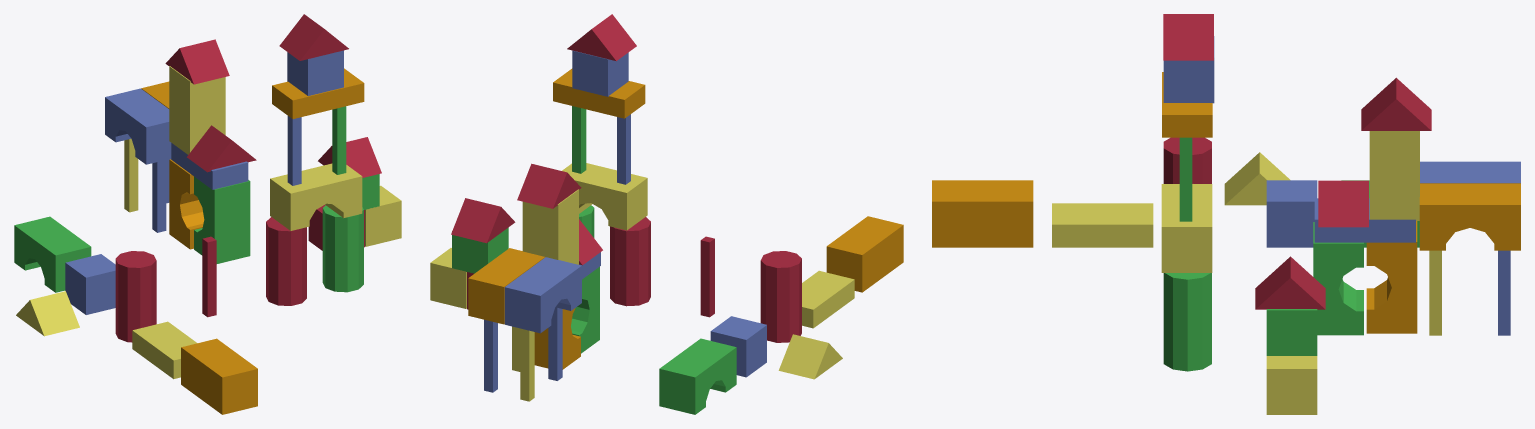
The model's file is Cubes.fbx.
The picture shows the model from 3 angles, left to right: view 1: azimuth 30°, elevation 25°; view 2: azimuth 150°, elevation 25°; view 3: azimuth 270°, elevation 25°; orthographic projection. The views are drawn at different scales.
Visible parts, largest first — view 1: House_with_arch, Tower, Long_block, Arch_piece, Pillar, square_block, Half_block, Roof_piece, Y_block, R_roof_piece, Thin_Pillar, G_block (+1 smaller); view 2: House_with_arch, Tower, Arch_piece, Long_block, Pillar, Half_block, square_block, Roof_piece, R_roof_piece, Y_block, G_block, Thin_Pillar; view 3: House_with_arch, Tower, Long_block, Half_block, square_block, Y_block, R_roof_piece, G_block, Roof_piece, Pillar.
Boxes of the visible parts, box(x1,y1,x2,y2) form: House_with_arch: box(105, 39, 256, 263); Tower: box(266, 14, 364, 305); Long_block: box(181, 338, 257, 414); Arch_piece: box(14, 216, 91, 292); Pillar: box(115, 251, 156, 342); square_block: box(65, 254, 115, 314); Half_block: box(132, 321, 197, 379); Roof_piece: box(16, 291, 79, 336); Y_block: box(365, 185, 401, 246); R_roof_piece: box(318, 137, 381, 177); Thin_Pillar: box(202, 236, 216, 317); G_block: box(362, 174, 379, 209); House_with_arch: box(468, 163, 602, 401); Tower: box(553, 14, 650, 306); Arch_piece: box(659, 338, 736, 414); Long_block: box(826, 216, 903, 292); Pillar: box(760, 251, 801, 342); Half_block: box(802, 270, 854, 328); square_block: box(710, 316, 766, 377); Roof_piece: box(778, 334, 842, 379); R_roof_piece: box(451, 198, 515, 243); Y_block: box(430, 248, 466, 308); G_block: box(452, 227, 508, 273); Thin_Pillar: box(700, 236, 714, 317); House_with_arch: box(1313, 77, 1520, 335); Tower: box(1161, 14, 1214, 371); Long_block: box(932, 180, 1033, 247); Half_block: box(1052, 203, 1153, 247); square_block: box(1266, 180, 1317, 247); Y_block: box(1266, 356, 1317, 414); R_roof_piece: box(1255, 256, 1325, 309); G_block: box(1266, 309, 1317, 355); Roof_piece: box(1224, 152, 1290, 205); Pillar: box(1163, 137, 1211, 183).
Bounding box in the file's own units: 10.47 × 7.18 × 11.62.
